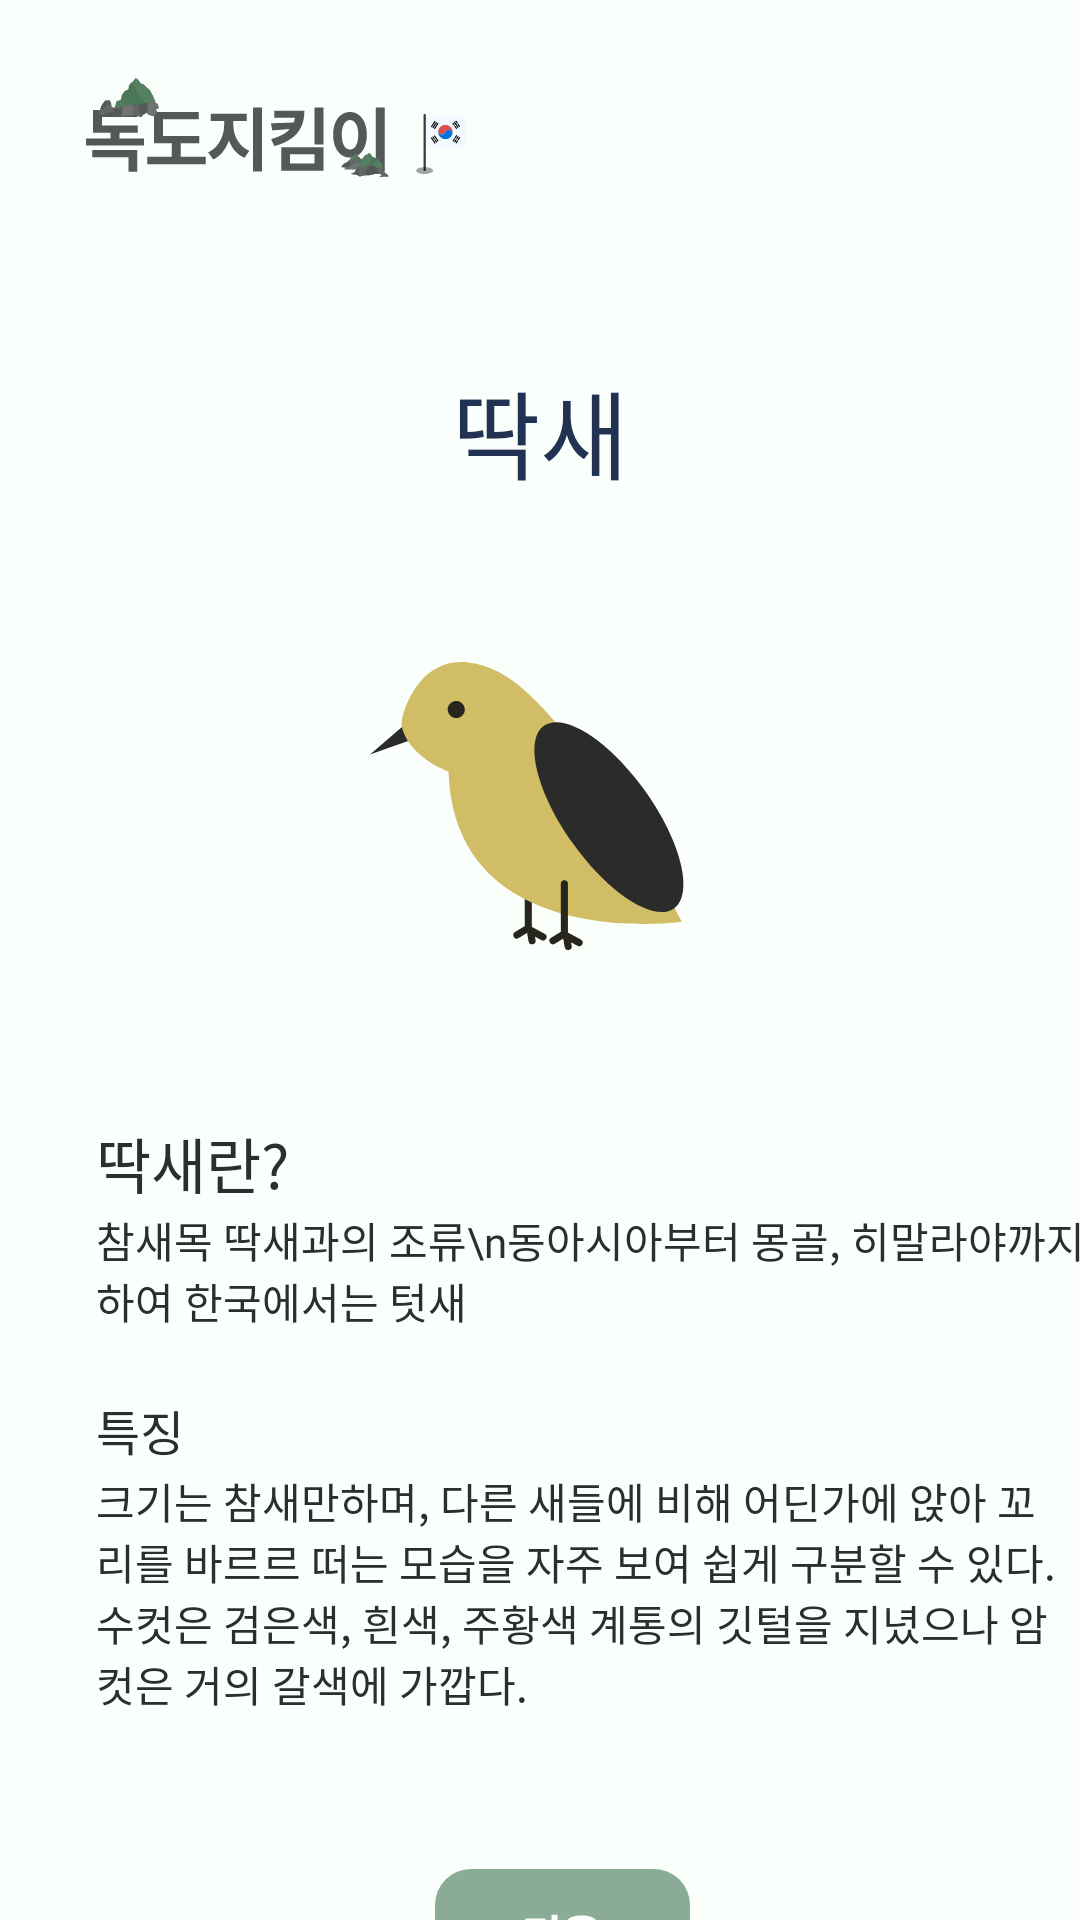

Where icons sit on this 1080 × 1920 app screen, as (x1, y1, x2, y2):
bird: (370, 662, 684, 950)
